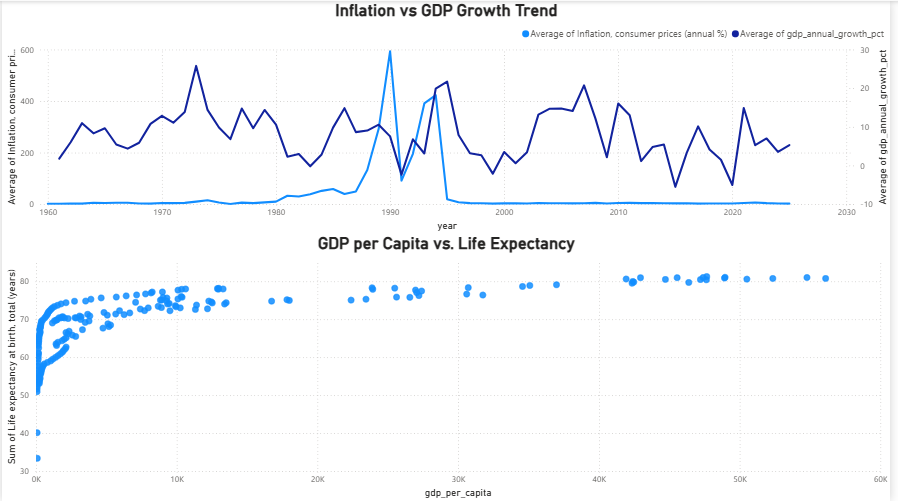

The page's visual inventory and layout, read from the dashboard file:
{"tool":"powerbi","page":{"name":"Trend Analysis","canvas":[1280,720],"ordinal":2},"visuals":[{"type":"lineChart","title":"Inflation vs GDP Growth Trend","fields":{"Category":["analytical_master_dataset.year"],"Y":["Avg(analytical_master_dataset.Inflation, consumer prices (annual %))"],"Y2":["Avg(analytical_master_dataset.gdp_annual_growth_pct)"]},"box":[0,0,1280,336],"z":0},{"type":"scatterChart","title":"GDP per Capita vs. Life Expectancy","fields":{"Y":["Sum(analytical_master_dataset.Life expectancy at birth, total (years))"],"X":["analytical_master_dataset.gdp_per_capita"]},"box":[0,336,1280,384.7],"z":1}]}

Visuals, with their boxes in screenshot pixels (x1, y1, x2, y2), scaled from the page's 1280x720 canvas onto the 898x501 screenshot:
"Inflation vs GDP Growth Trend" lineChart: 0:0:897:234
"GDP per Capita vs. Life Expectancy" scatterChart: 0:234:897:500
